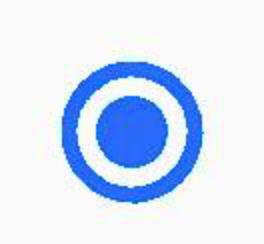RadioButton: (1, 1, 263, 243)
